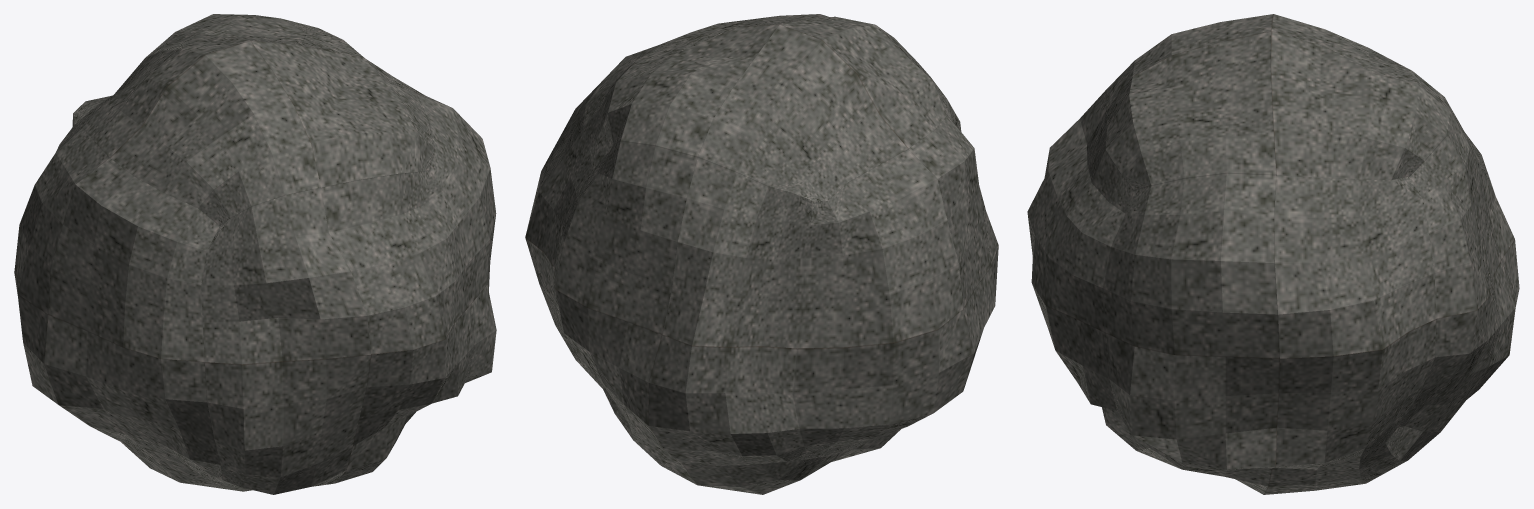
The model's file is SM_EC_Rock_56.fbx.
3 renders of one model, left to right at view 1: azimuth 30°, elevation 25°; view 2: azimuth 150°, elevation 25°; view 3: azimuth 270°, elevation 25°, orthographic.
Visible parts, largest first — view 1: SM_EC_Rock_56; view 2: SM_EC_Rock_56; view 3: SM_EC_Rock_56.
Boxes of the visible parts, box(x1,y1,x2,y2) form: SM_EC_Rock_56: box(14, 14, 496, 494); SM_EC_Rock_56: box(525, 14, 998, 494); SM_EC_Rock_56: box(1027, 14, 1519, 494).
Bounding box in the file's own units: 2.05 × 2.09 × 2.07.
